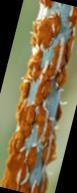Wheat: (1, 92, 62, 193), (22, 1, 76, 100)
